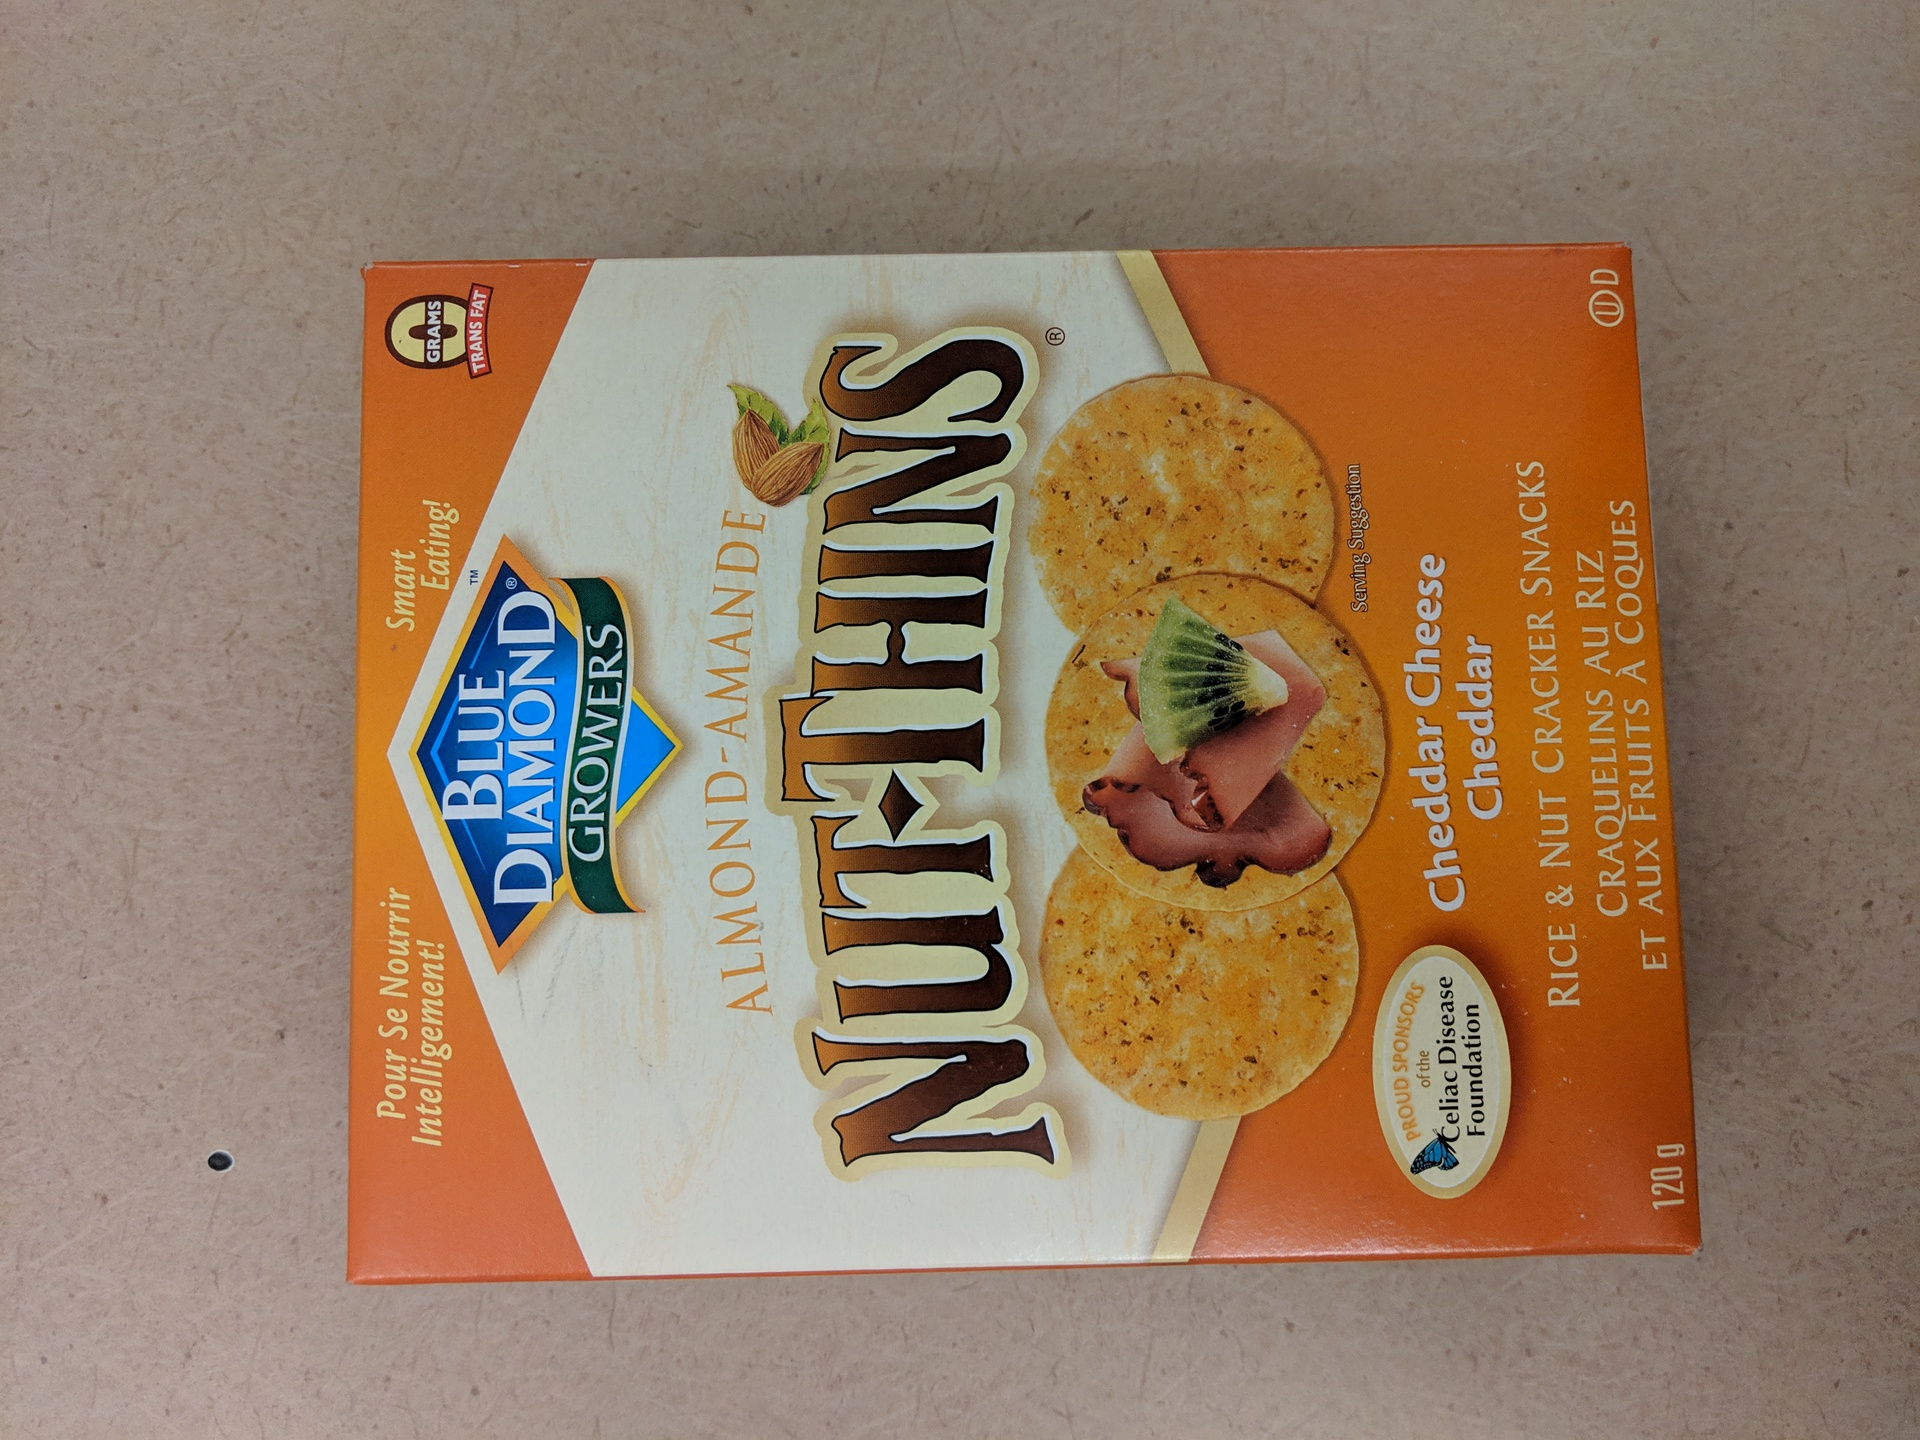blue_diamond_nut_thins_almond_cheddar: (340, 233, 1713, 1296)
